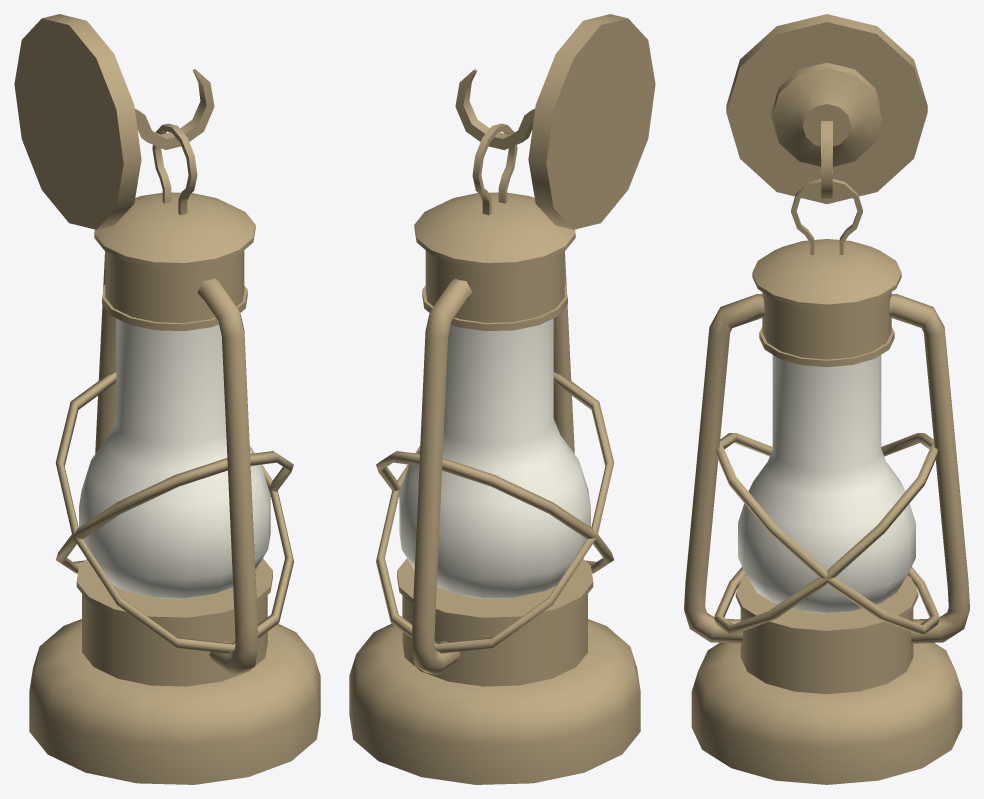
The model's file is SM_OilLamp.fbx.
3 views of the same model, side by side, from view 1: azimuth 30°, elevation 25°; view 2: azimuth 150°, elevation 25°; view 3: azimuth 270°, elevation 25° (orthographic). The views are drawn at different scales.
Parts seen in each view (by area): view 1: Cylinder001; view 2: Cylinder001; view 3: Cylinder001.
Part boxes in pixels (x1=…): Cylinder001: x1=14, y1=14, x2=320, y2=784; Cylinder001: x1=349, y1=14, x2=655, y2=784; Cylinder001: x1=684, y1=14, x2=969, y2=784.
Size of the model in its own units: 11.94 by 32.47 by 12.62.
